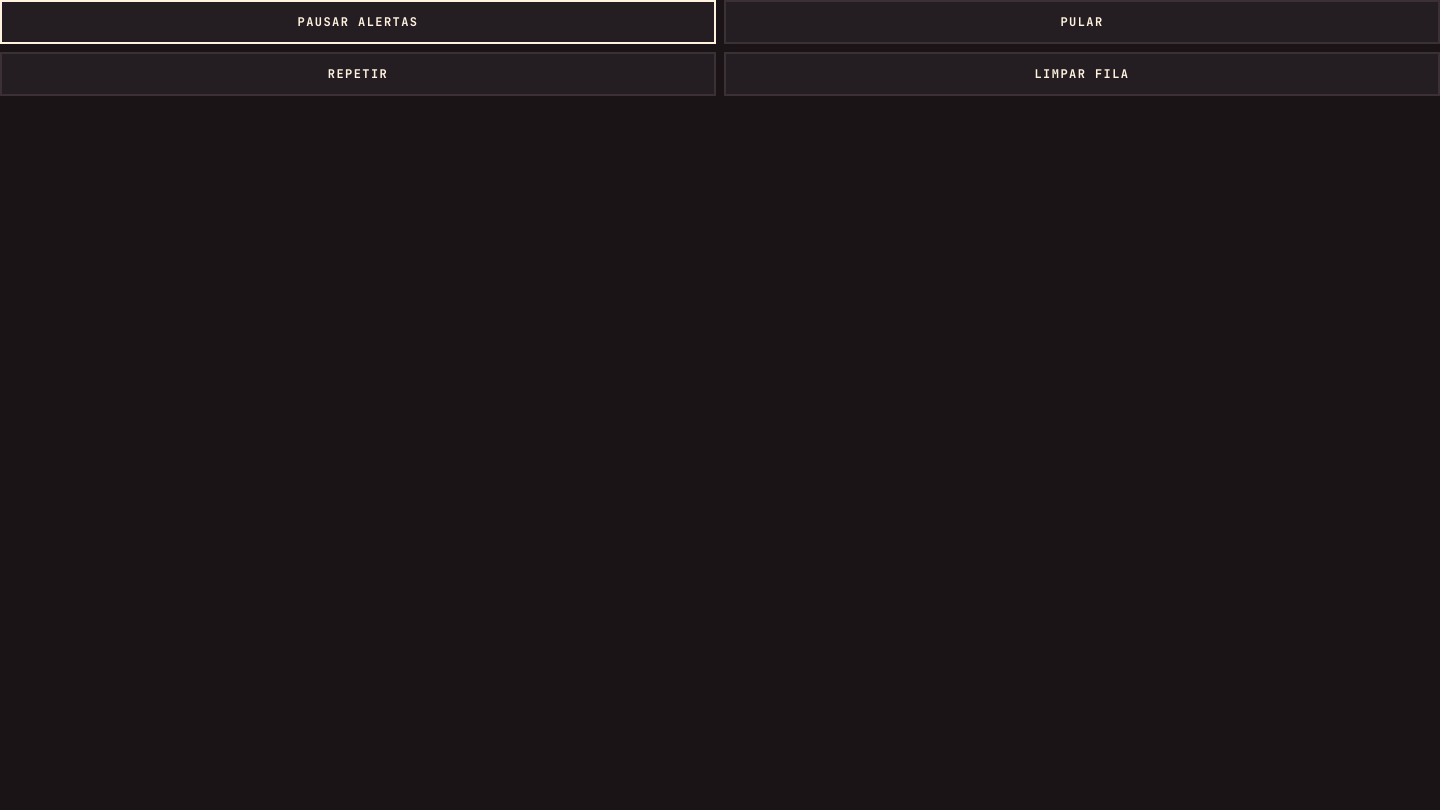
Test case: ControlesLivePix › limpar que falha marca o botão LIMPAR FILA
The image size is (1440, 810).
Step 1. Click the button "LIMPAR FILA" → (1082, 74), box [724,52,1439,96]
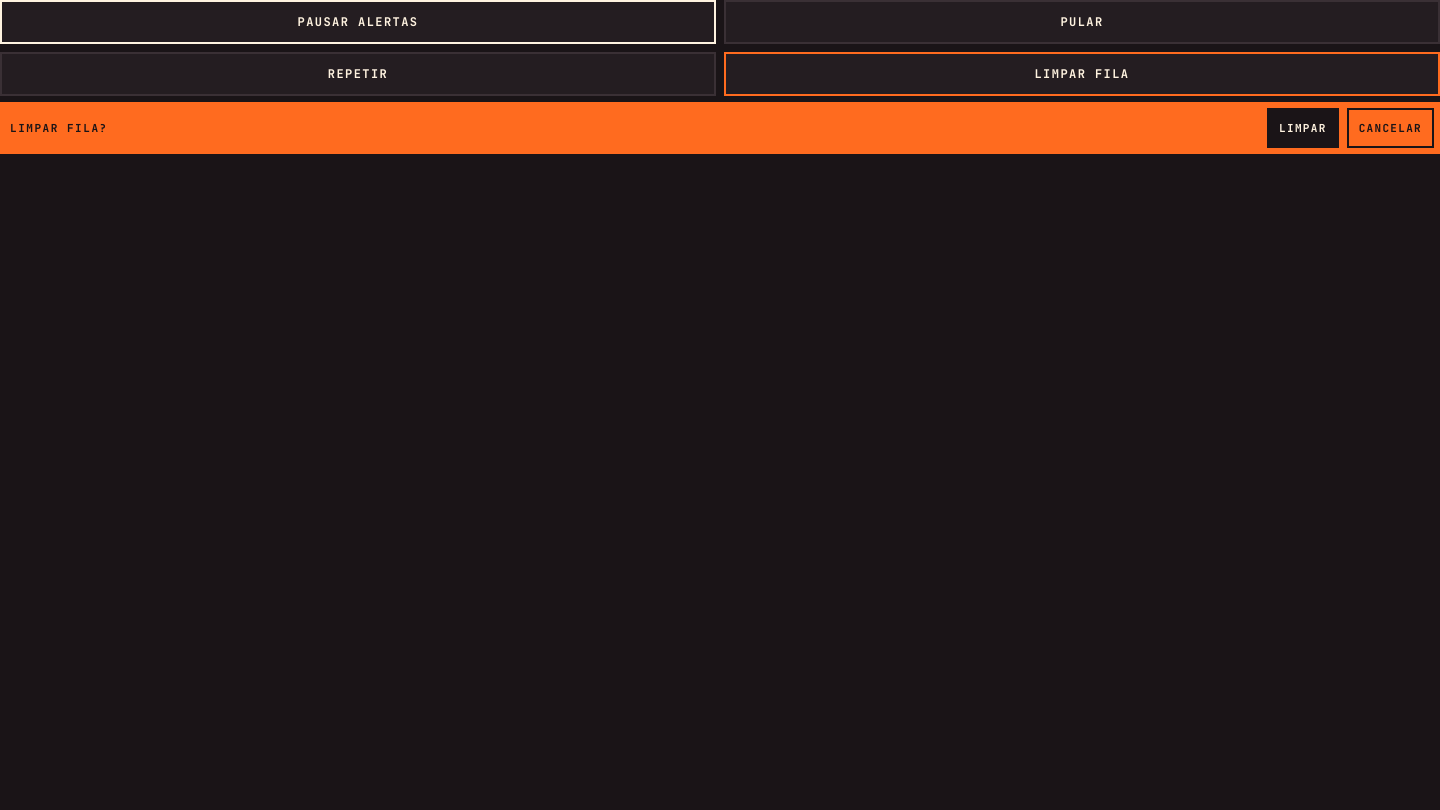
Step 2. Click the button "LIMPAR" → (1303, 128), box [1267,108,1339,148]
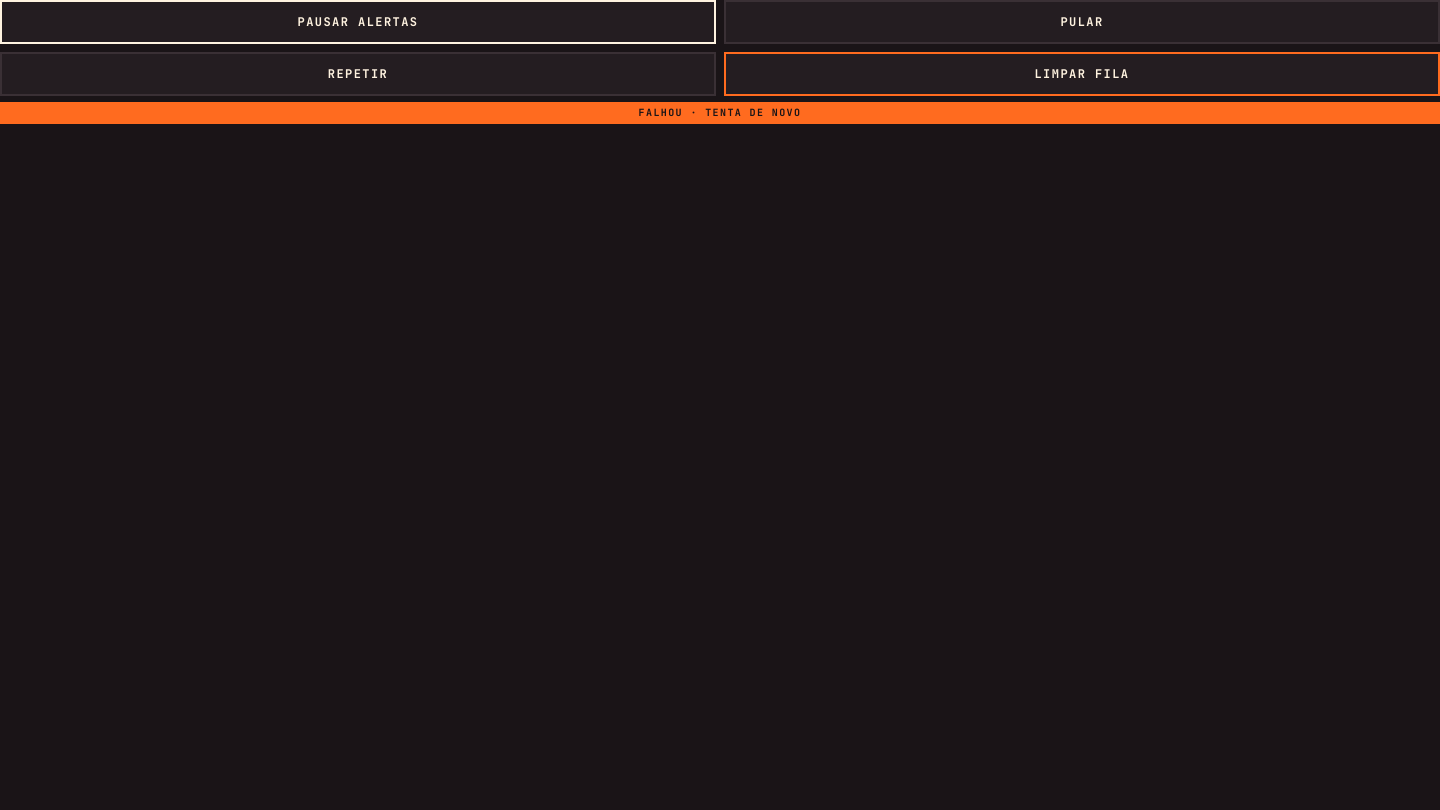
Check: the text "FALHOU · TENTA DE NOVO" is shown, box [0,102,1439,124]
